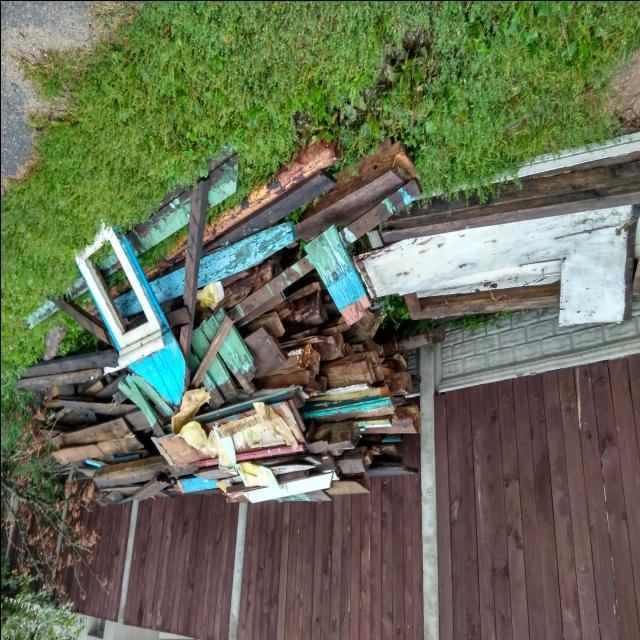entulho: (217, 242, 422, 408), (360, 188, 640, 306), (150, 392, 412, 514), (153, 127, 341, 286), (70, 222, 202, 406), (290, 132, 423, 240), (406, 270, 640, 322), (211, 168, 331, 262), (135, 306, 227, 428), (50, 406, 146, 473), (94, 442, 184, 508), (13, 343, 127, 395)
